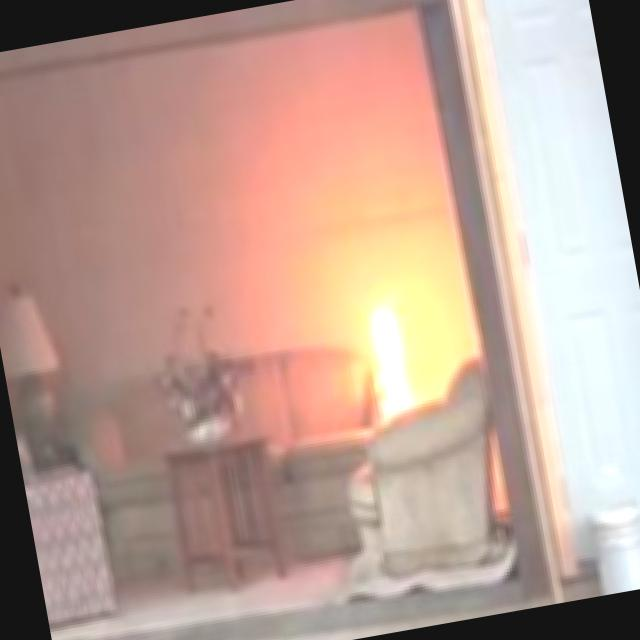fire: (347, 272, 438, 422)
